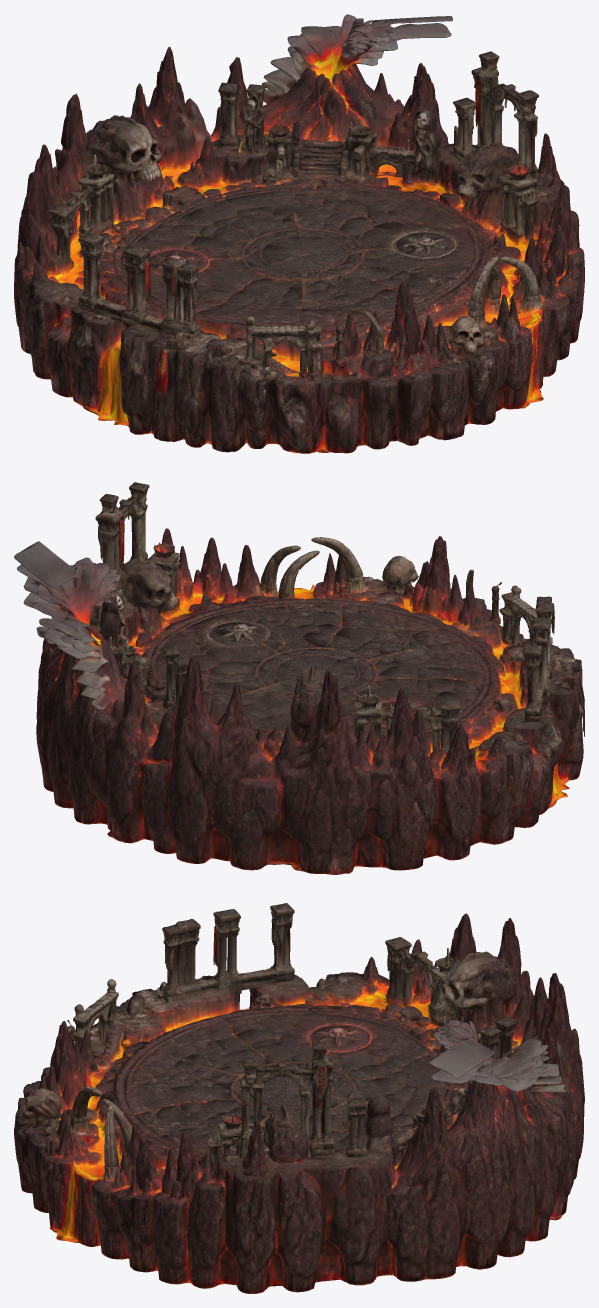
File: undead.glb
3 views of the same model, one above another, from view 1: azimuth 30°, elevation 25°; view 2: azimuth 150°, elevation 25°; view 3: azimuth 270°, elevation 25° (orthographic). The views are drawn at different scales.
Parts seen in each view (by area): view 1: tripo_node_d41c3235-db91-437b-9801-2e404479b753; view 2: tripo_node_d41c3235-db91-437b-9801-2e404479b753; view 3: tripo_node_d41c3235-db91-437b-9801-2e404479b753.
Boxes of the visible parts, x1=… form: tripo_node_d41c3235-db91-437b-9801-2e404479b753: x1=14, y1=14, x2=584, y2=453; tripo_node_d41c3235-db91-437b-9801-2e404479b753: x1=14, y1=482, x2=584, y2=874; tripo_node_d41c3235-db91-437b-9801-2e404479b753: x1=14, y1=903, x2=584, y2=1293.
Size of the model in its own units: 0.9793 by 0.4439 by 0.9814.
Materials: 1 (1 with a texture image).
